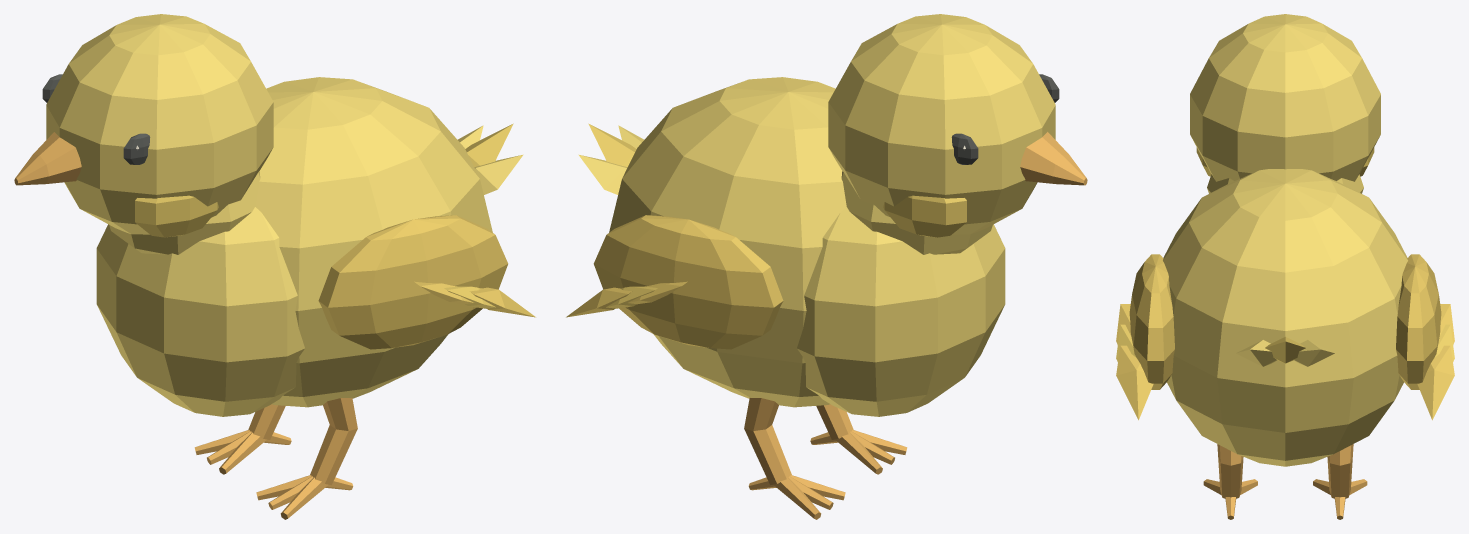
Rendered from chick.glb.
3 views of the same model, side by side, from view 1: azimuth 30°, elevation 25°; view 2: azimuth 150°, elevation 25°; view 3: azimuth 270°, elevation 25° (orthographic). The views are drawn at different scales.
Visible parts, largest first — view 1: body_down, Head, wingL_wing, Neck, head_downShade, Leg_L, Beak, footL_yellow, footR_yellow, tail_down, Tail_Feather_1, head_eye.003 (+1 smaller); view 2: body_down, Head, wingR_wing, Neck, head_downShade, Leg_R, Beak, footR_yellow, footL_yellow, tail_down, Tail_Feather_1, head_eye.003 (+1 smaller); view 3: body_down, Head, wingL_wing, wingR_wing, tail_down, Leg_L, Leg_R, Tail_Feather_1, footL_yellow, footR_yellow, Neck.
Part boxes in pixels (bbox=[...]): body_down: bbox=[96, 77, 492, 416]; Head: bbox=[46, 14, 273, 234]; wingL_wing: bbox=[318, 215, 535, 349]; Neck: bbox=[109, 171, 260, 254]; head_downShade: bbox=[135, 195, 218, 237]; Leg_L: bbox=[310, 398, 357, 485]; Beak: bbox=[14, 132, 81, 185]; footL_yellow: bbox=[256, 475, 353, 519]; footR_yellow: bbox=[194, 430, 291, 474]; tail_down: bbox=[458, 125, 523, 194]; Tail_Feather_1: bbox=[465, 123, 513, 166]; head_eye.003: bbox=[42, 74, 150, 164]; body_down: bbox=[609, 77, 1005, 416]; Head: bbox=[828, 14, 1055, 234]; wingR_wing: bbox=[566, 215, 783, 349]; Neck: bbox=[841, 171, 992, 254]; head_downShade: bbox=[883, 195, 966, 237]; Leg_R: bbox=[744, 398, 791, 485]; Beak: bbox=[1020, 132, 1087, 185]; footR_yellow: bbox=[748, 475, 845, 519]; footL_yellow: bbox=[810, 430, 907, 474]; tail_down: bbox=[578, 125, 643, 194]; Tail_Feather_1: bbox=[588, 123, 636, 166]; head_eye.003: bbox=[951, 74, 1059, 164]; body_down: bbox=[1163, 169, 1407, 466]; Head: bbox=[1190, 14, 1380, 181]; wingL_wing: bbox=[1116, 254, 1174, 420]; wingR_wing: bbox=[1396, 254, 1454, 420]; tail_down: bbox=[1236, 340, 1334, 366]; Leg_L: bbox=[1217, 444, 1243, 498]; Leg_R: bbox=[1327, 444, 1353, 498]; Tail_Feather_1: bbox=[1265, 337, 1305, 363]; footL_yellow: bbox=[1203, 479, 1257, 519]; footR_yellow: bbox=[1313, 479, 1367, 519]; Neck: bbox=[1207, 174, 1363, 193].
Size of the model in its own units: 0.149 by 0.1382 by 0.0992.
